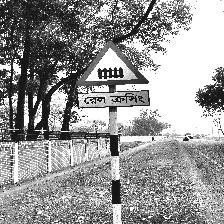Rail-crossing: (74, 42, 151, 111)
